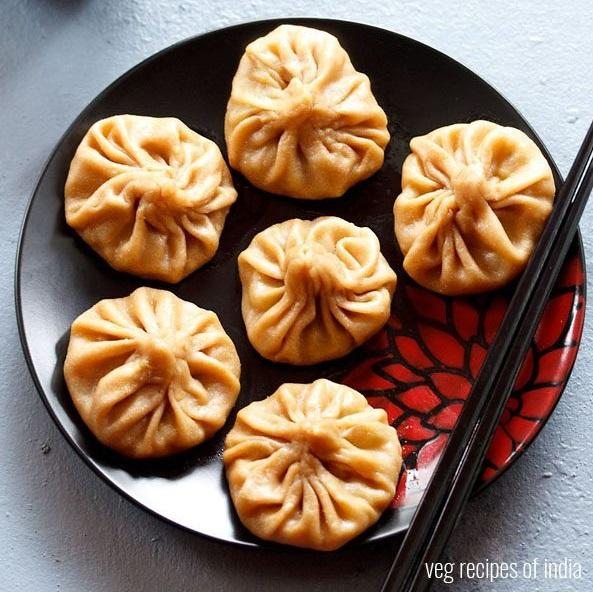momos: (224, 379, 402, 550), (64, 287, 240, 458), (225, 24, 390, 199), (65, 115, 237, 282), (394, 120, 555, 295), (237, 217, 397, 364)
